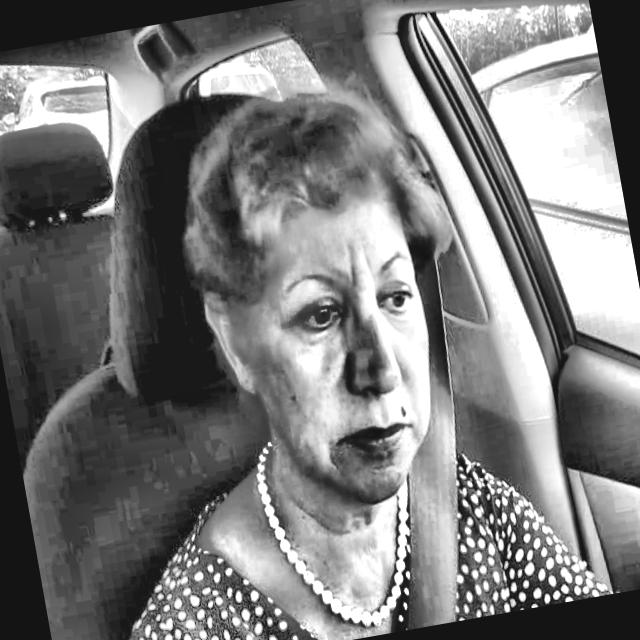closed_mouth: (320, 405, 433, 473)
open_eyes: (276, 293, 346, 342), (365, 276, 423, 318)
